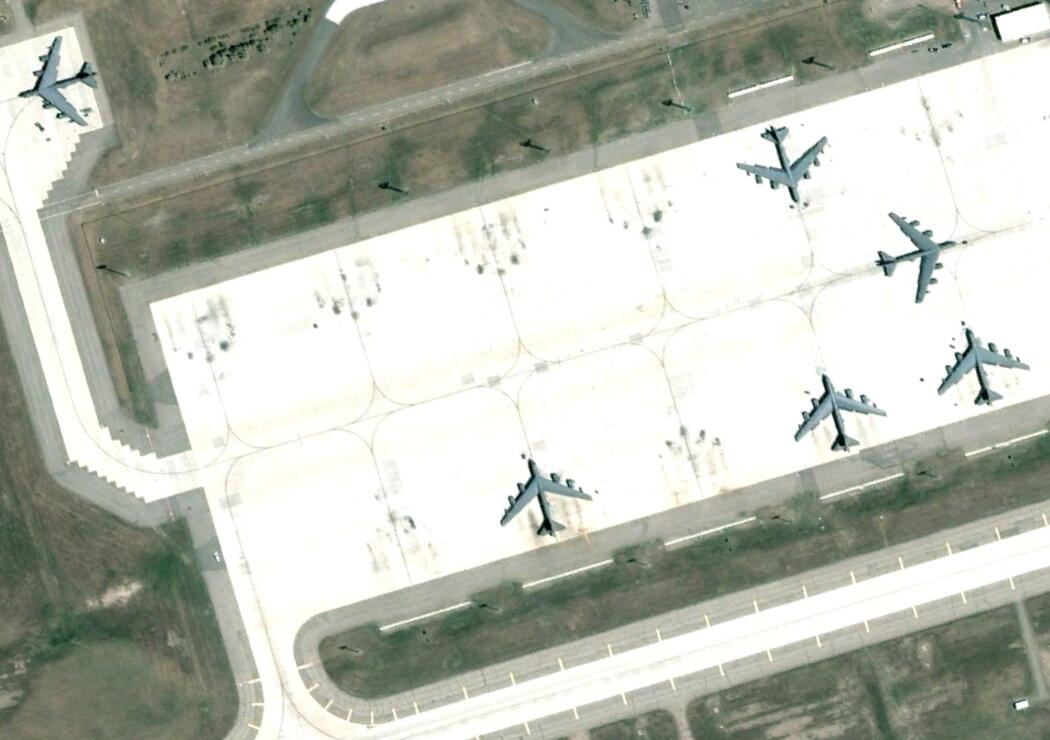A8: (732, 120, 835, 209), (870, 208, 960, 309), (13, 33, 106, 130), (496, 454, 596, 543), (932, 326, 1035, 410), (792, 373, 889, 455)
